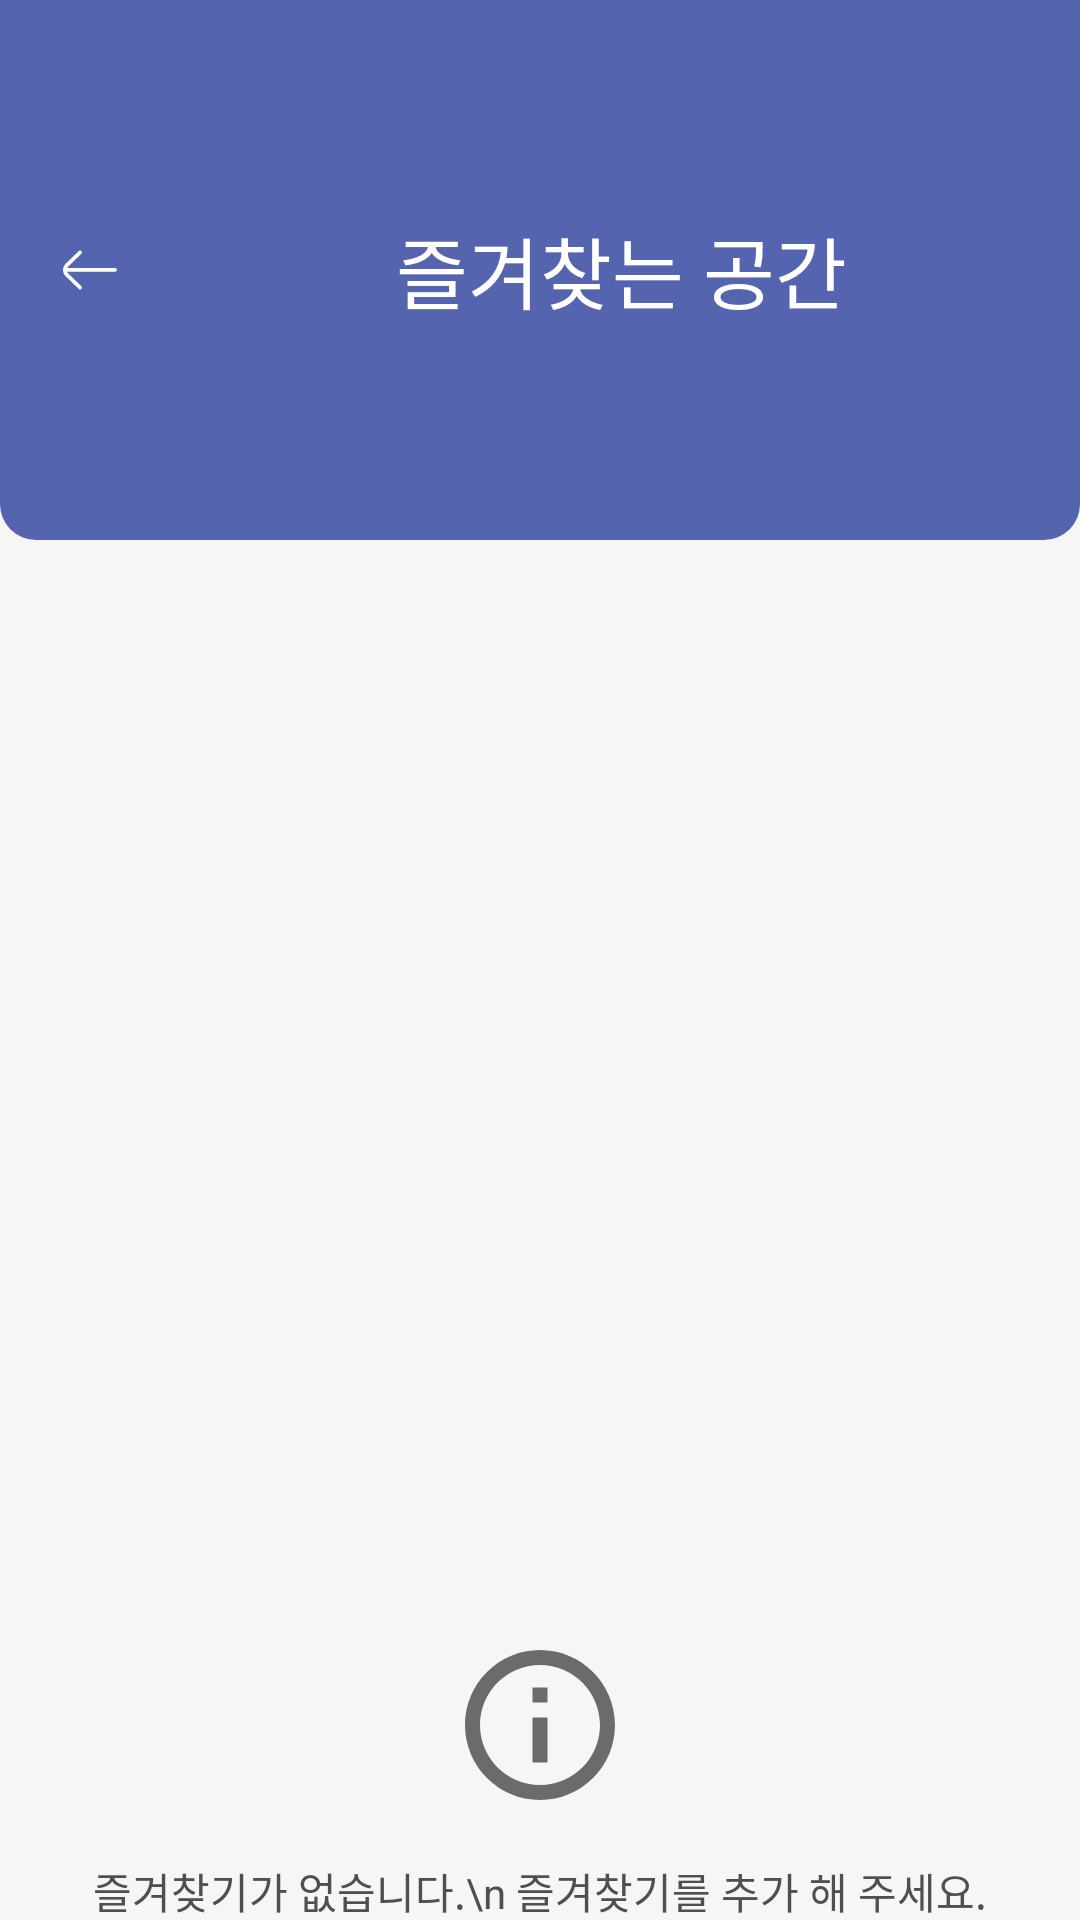

Locate icon controls on the screen. Image size 1080 x 1920, boxes as (x1, y1, x2, y2).
back: (63, 250, 117, 290)
